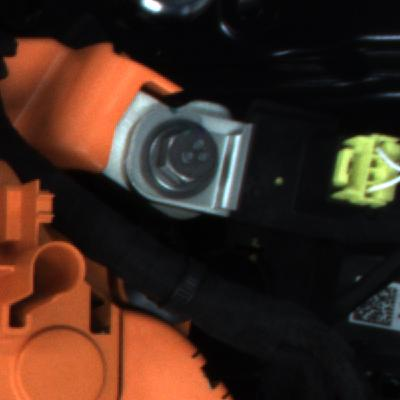nut_b: (130, 116, 228, 206)
